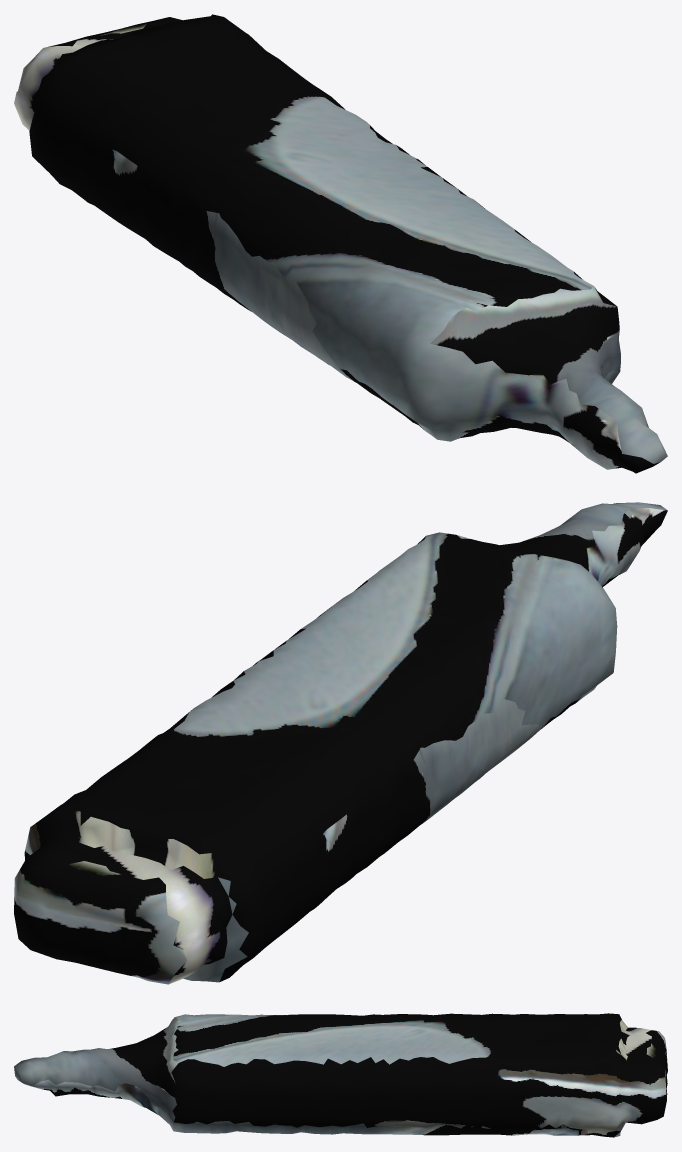
The model's file is scan_align.obj.
3 views of the same model, one above another, from view 1: azimuth 30°, elevation 25°; view 2: azimuth 150°, elevation 25°; view 3: azimuth 270°, elevation 25° (orthographic). The views are drawn at different scales.
Bounding box in the file's own units: 0.0253 × 0.0154 × 0.1082.
